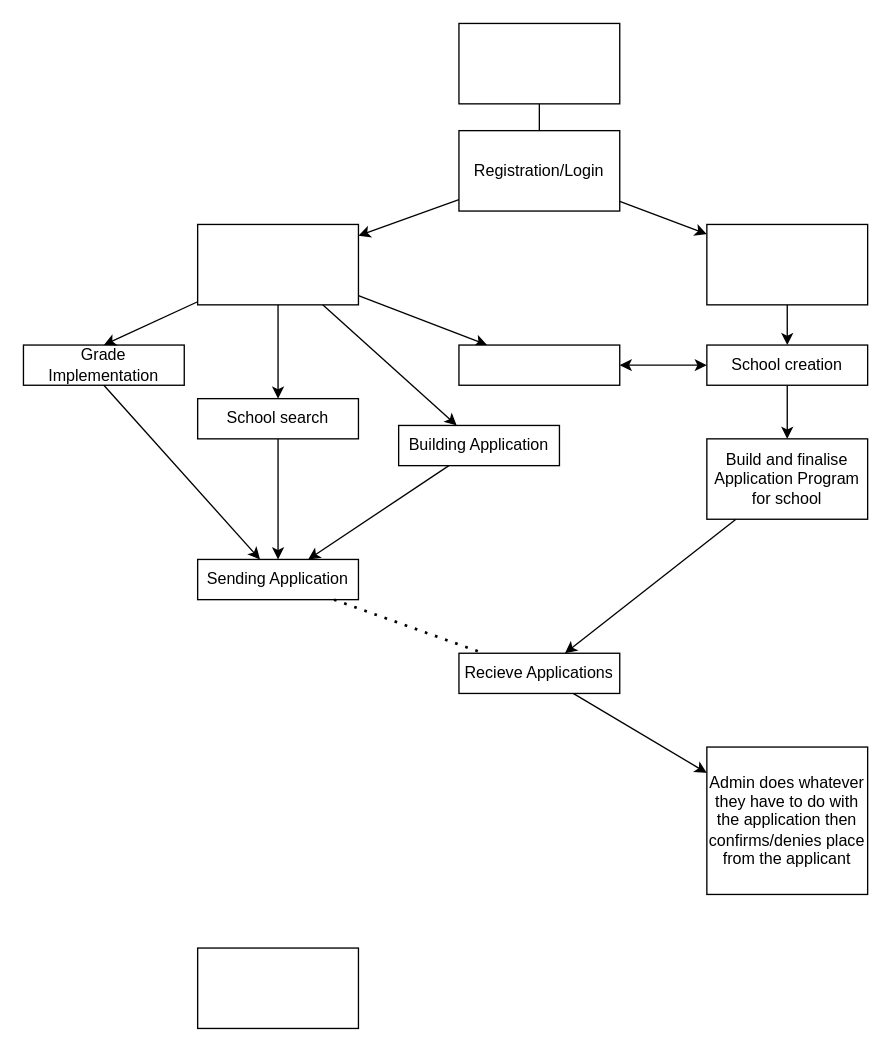
Image size: 891x1052. Some labels were removed from this diagram. The centre of each missing label's shape, as x and y in pixels:
"Admin Hub" belongs at (x=787, y=264).
"Home Screen" belongs at (x=539, y=63).
"Student Hub" belongs at (x=277, y=264).
"Student receives application" belongs at (x=277, y=987).
"Tags" belongs at (x=539, y=364).
